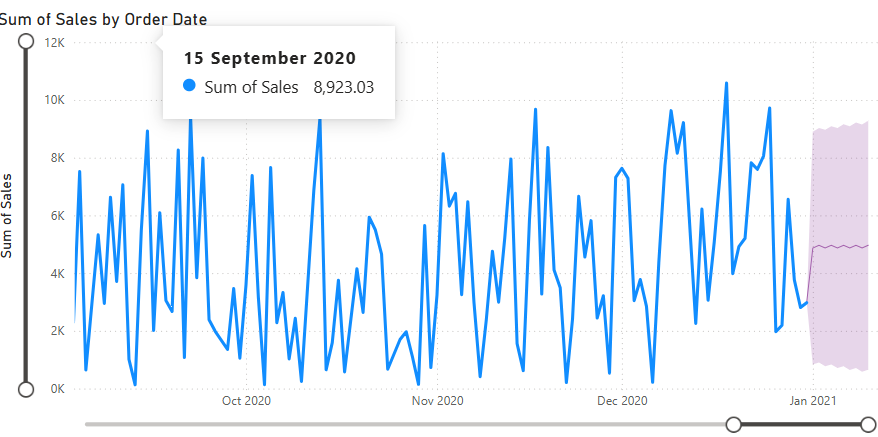

This screenshot's page, from the dashboard's own definition file:
{"tool":"powerbi","page":{"name":"Page 2","canvas":[1280,720],"ordinal":1},"visuals":[{"type":"lineChart","fields":{"Y":["Sum(SuperStore_Sales_Dataset.Sales)"],"Category":["SuperStore_Sales_Dataset.Order Date"]},"box":[359.5,159,885.3,439],"z":0}]}

Visuals, with their boxes on the page's 1280x720 design canvas (x1, y1, x2, y2). These are canvas units, not pixel positions in the 878x437 screenshot, which may show the page scaled, cropped or inside an application window:
lineChart - Sum(SuperStore_Sales_Dataset.Sales) x SuperStore_Sales_Dataset.Order Date: 360, 159, 1245, 598
